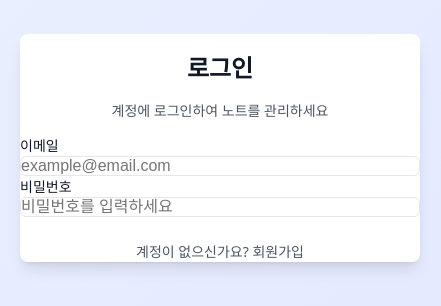
Scenario: Login 페이지 › 폼 유효성 검증 › 빈 이메일로 제출하면 에러가 표시된다
Click the button "로그인": (220, 229) left=20, top=217, right=420, bottom=241
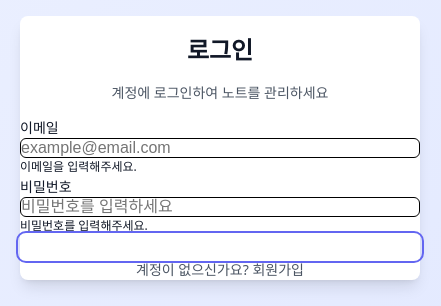
Check: the text "이메일을 입력해주세요." is shown, box left=20, top=158, right=137, bottom=175
